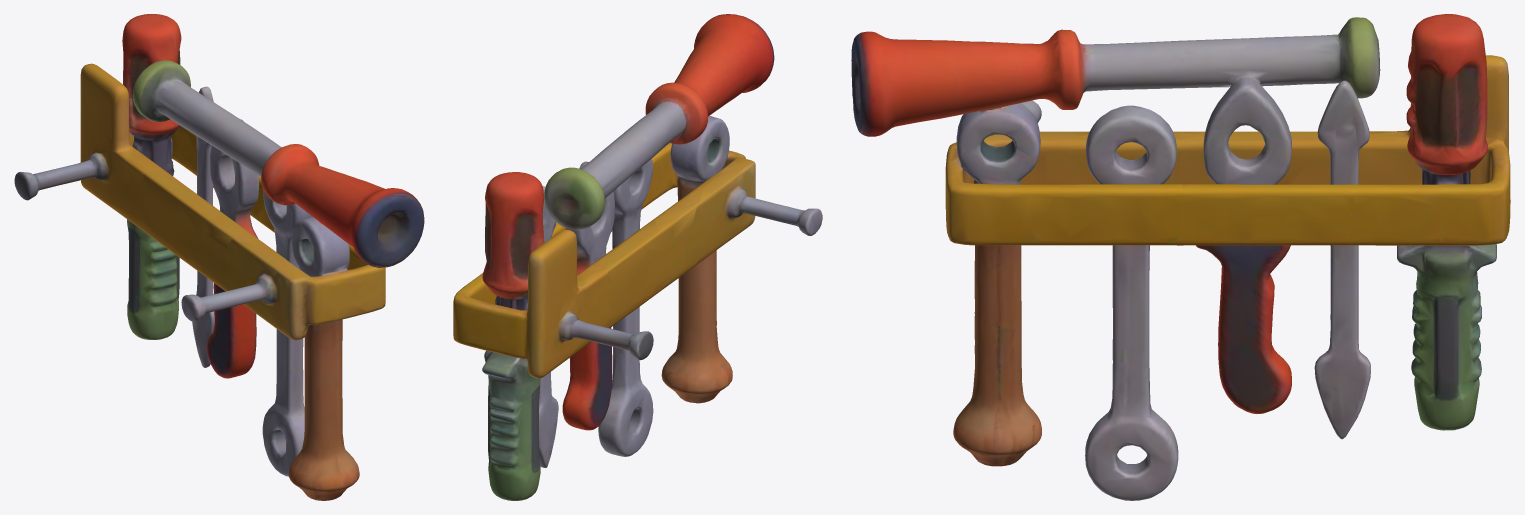
Rendered from tool_rack.glb.
The picture shows the model from 3 angles, left to right: view 1: azimuth 30°, elevation 25°; view 2: azimuth 150°, elevation 25°; view 3: azimuth 270°, elevation 25°; orthographic projection. The views are drawn at different scales.
Parts seen in each view (by area): view 1: tripo_node_50f51bcc-69af-4e71-8ff1-eb6bcf3d3ea7; view 2: tripo_node_50f51bcc-69af-4e71-8ff1-eb6bcf3d3ea7; view 3: tripo_node_50f51bcc-69af-4e71-8ff1-eb6bcf3d3ea7.
Boxes of the visible parts, <box> form: tripo_node_50f51bcc-69af-4e71-8ff1-eb6bcf3d3ea7: <box>14,14,424,500</box>; tripo_node_50f51bcc-69af-4e71-8ff1-eb6bcf3d3ea7: <box>453,14,822,500</box>; tripo_node_50f51bcc-69af-4e71-8ff1-eb6bcf3d3ea7: <box>851,14,1510,500</box>.
Size of the model in its own units: 0.374 by 0.7386 by 0.9488.
Materials: 1 (1 with a texture image).
